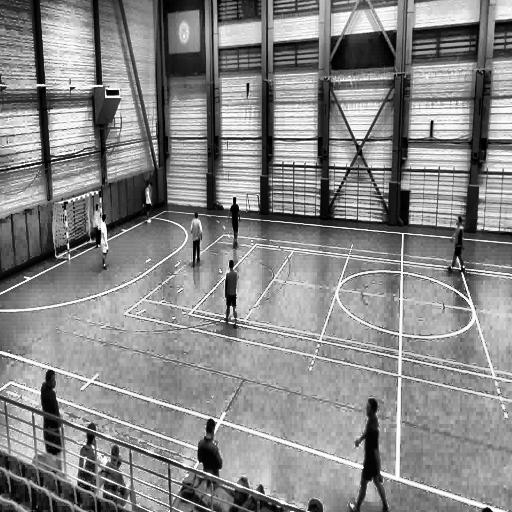player: (349, 399, 390, 512), (447, 215, 465, 273), (224, 260, 238, 329), (191, 212, 202, 268), (230, 196, 240, 248), (100, 214, 109, 269), (143, 182, 152, 224), (94, 204, 102, 247)
